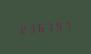nine: (54, 19, 62, 32)
seven: (63, 18, 71, 32), (45, 20, 53, 33)
six: (36, 20, 44, 34)
three: (26, 21, 34, 34)
two: (17, 21, 25, 35)
